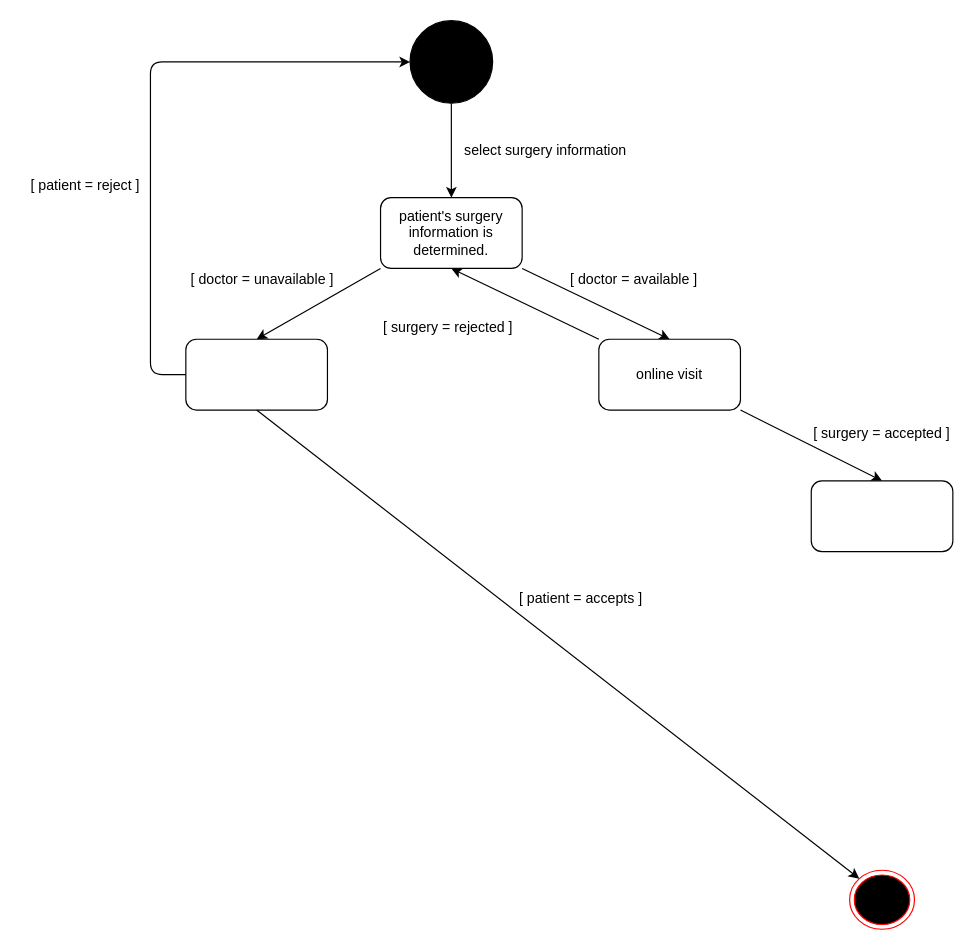
This 978x950 diagram has some shape labels left out. The centre of each missing label's shape, as x and y in pixels:
"Accpeted" goes at point 881,516.
"waiting queue" goes at point 256,374.
